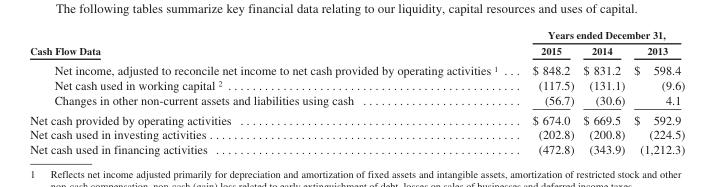table: (29, 28, 684, 155)
table column: (29, 28, 514, 155), (514, 28, 578, 155), (628, 28, 684, 155), (578, 28, 628, 155)
table column header: (29, 28, 684, 59)
table row: (29, 59, 684, 77), (29, 91, 684, 109), (29, 42, 684, 59), (29, 109, 684, 126), (29, 126, 684, 141), (29, 28, 684, 42), (29, 77, 684, 91), (29, 141, 684, 155)
table spanning cell: (29, 28, 514, 59), (514, 28, 684, 42)
